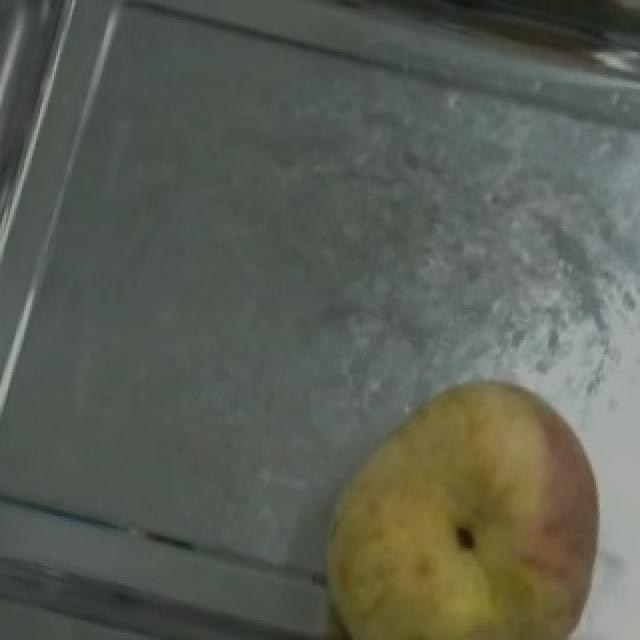Fruit: (282, 347, 622, 640)
